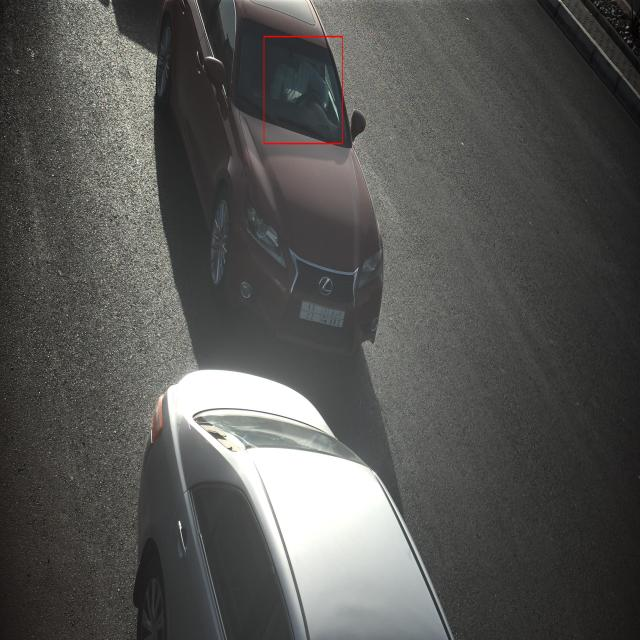windshield: (235, 15, 356, 155)
